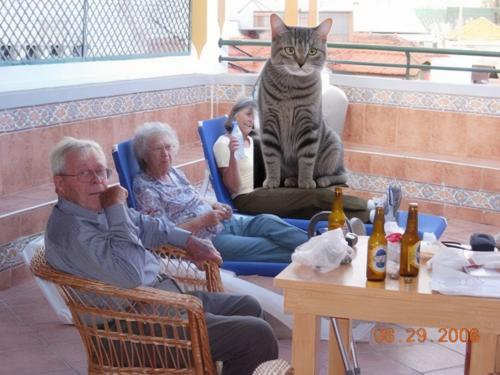bottle: (398, 202, 422, 278), (367, 208, 389, 284), (228, 122, 249, 163), (328, 188, 348, 231)
cat: (253, 11, 353, 188)
chair: (23, 229, 224, 374)
person: (41, 138, 283, 375), (130, 123, 367, 266), (213, 95, 404, 226)
person/foot: (381, 182, 400, 221)
person/hand: (186, 238, 221, 272), (100, 185, 127, 206), (202, 209, 222, 227), (213, 203, 232, 219), (227, 137, 242, 154)
person/head: (51, 137, 109, 215), (131, 122, 175, 173), (232, 99, 261, 133)
